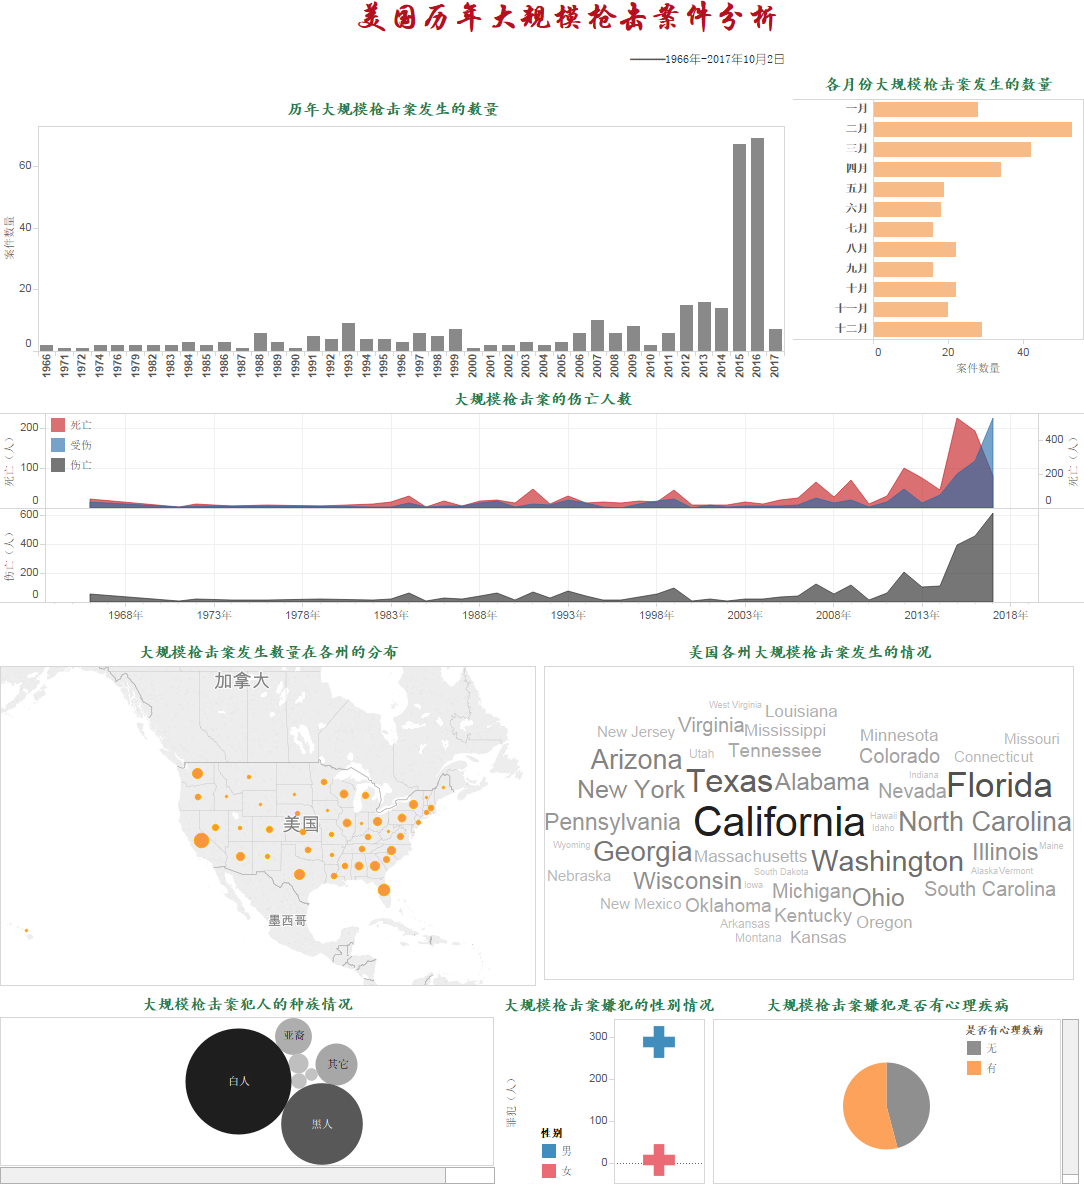

What the dashboard file says about the page in this screenshot:
{"tool":"tableau","page":{"name":"美国大规模枪击案分析(仪表板)","canvas":[1100,1200],"ordinal":0},"visuals":[{"type":"worksheet","title":"历年案件发生的数量","mark":"Bar","rows":["Number of Records"],"cols":["Date"],"box":[0,0,797.2,392]},{"type":"worksheet","title":"各月份案件发生的数量","mark":"Bar","rows":["Date"],"cols":["Number of Records"],"box":[797.2,0,298.8,392]},{"type":"worksheet","title":"案件的伤亡人数","mark":"Area","rows":["Fatalities","Injured","Total victims"],"cols":["Date"],"box":[0,392,1096,252.6]},{"type":"legend","title":"案件的伤亡人数","param":"[textscan.0b5kkah0v3q1is149luuw1k556ta].[:Measure Names]","box":[56,423,140,102]},{"type":"worksheet","title":"案件发生数量在美国各州的分布","mark":"Automatic","box":[0,644.6,548,353.6]},{"type":"worksheet","title":"案件发生的情况","mark":"Text","box":[548,644.6,548,353.6]},{"type":"worksheet","title":"嫌犯的种族情况","mark":"Circle","box":[0,998.2,506,201.8]},{"type":"worksheet","title":"嫌犯的性别情况","mark":"Shape","rows":["Number of Records"],"box":[506,998.2,211,201.8]},{"type":"worksheet","title":"嫌犯是否有心理疾病","mark":"Pie","box":[717,998.2,383,201.8]},{"type":"legend","title":"嫌犯的性别情况","param":"[textscan.0b5kkah0v3q1is149luuw1k556ta].[none:Gender:nk]","box":[547,1134,84,63]}]}

Visuals, with their boxes in screenshot pixels (x1, y1, x2, y2), scaled from the page's 1100x1200 canvas onto the 1084x1184 screenshot:
"历年案件发生的数量" worksheet (Bar marks): bbox=[0, 0, 786, 387]
"各月份案件发生的数量" worksheet (Bar marks): bbox=[786, 0, 1080, 387]
"案件的伤亡人数" worksheet (Area marks): bbox=[0, 387, 1080, 636]
"案件的伤亡人数" legend: bbox=[55, 417, 193, 518]
"案件发生数量在美国各州的分布" worksheet: bbox=[0, 636, 540, 985]
"案件发生的情况" worksheet (Text marks): bbox=[540, 636, 1080, 985]
"嫌犯的种族情况" worksheet (Circle marks): bbox=[0, 985, 499, 1183]
"嫌犯的性别情况" worksheet (Shape marks): bbox=[499, 985, 707, 1183]
"嫌犯是否有心理疾病" worksheet (Pie marks): bbox=[707, 985, 1083, 1183]
"嫌犯的性别情况" legend: bbox=[539, 1119, 622, 1181]
